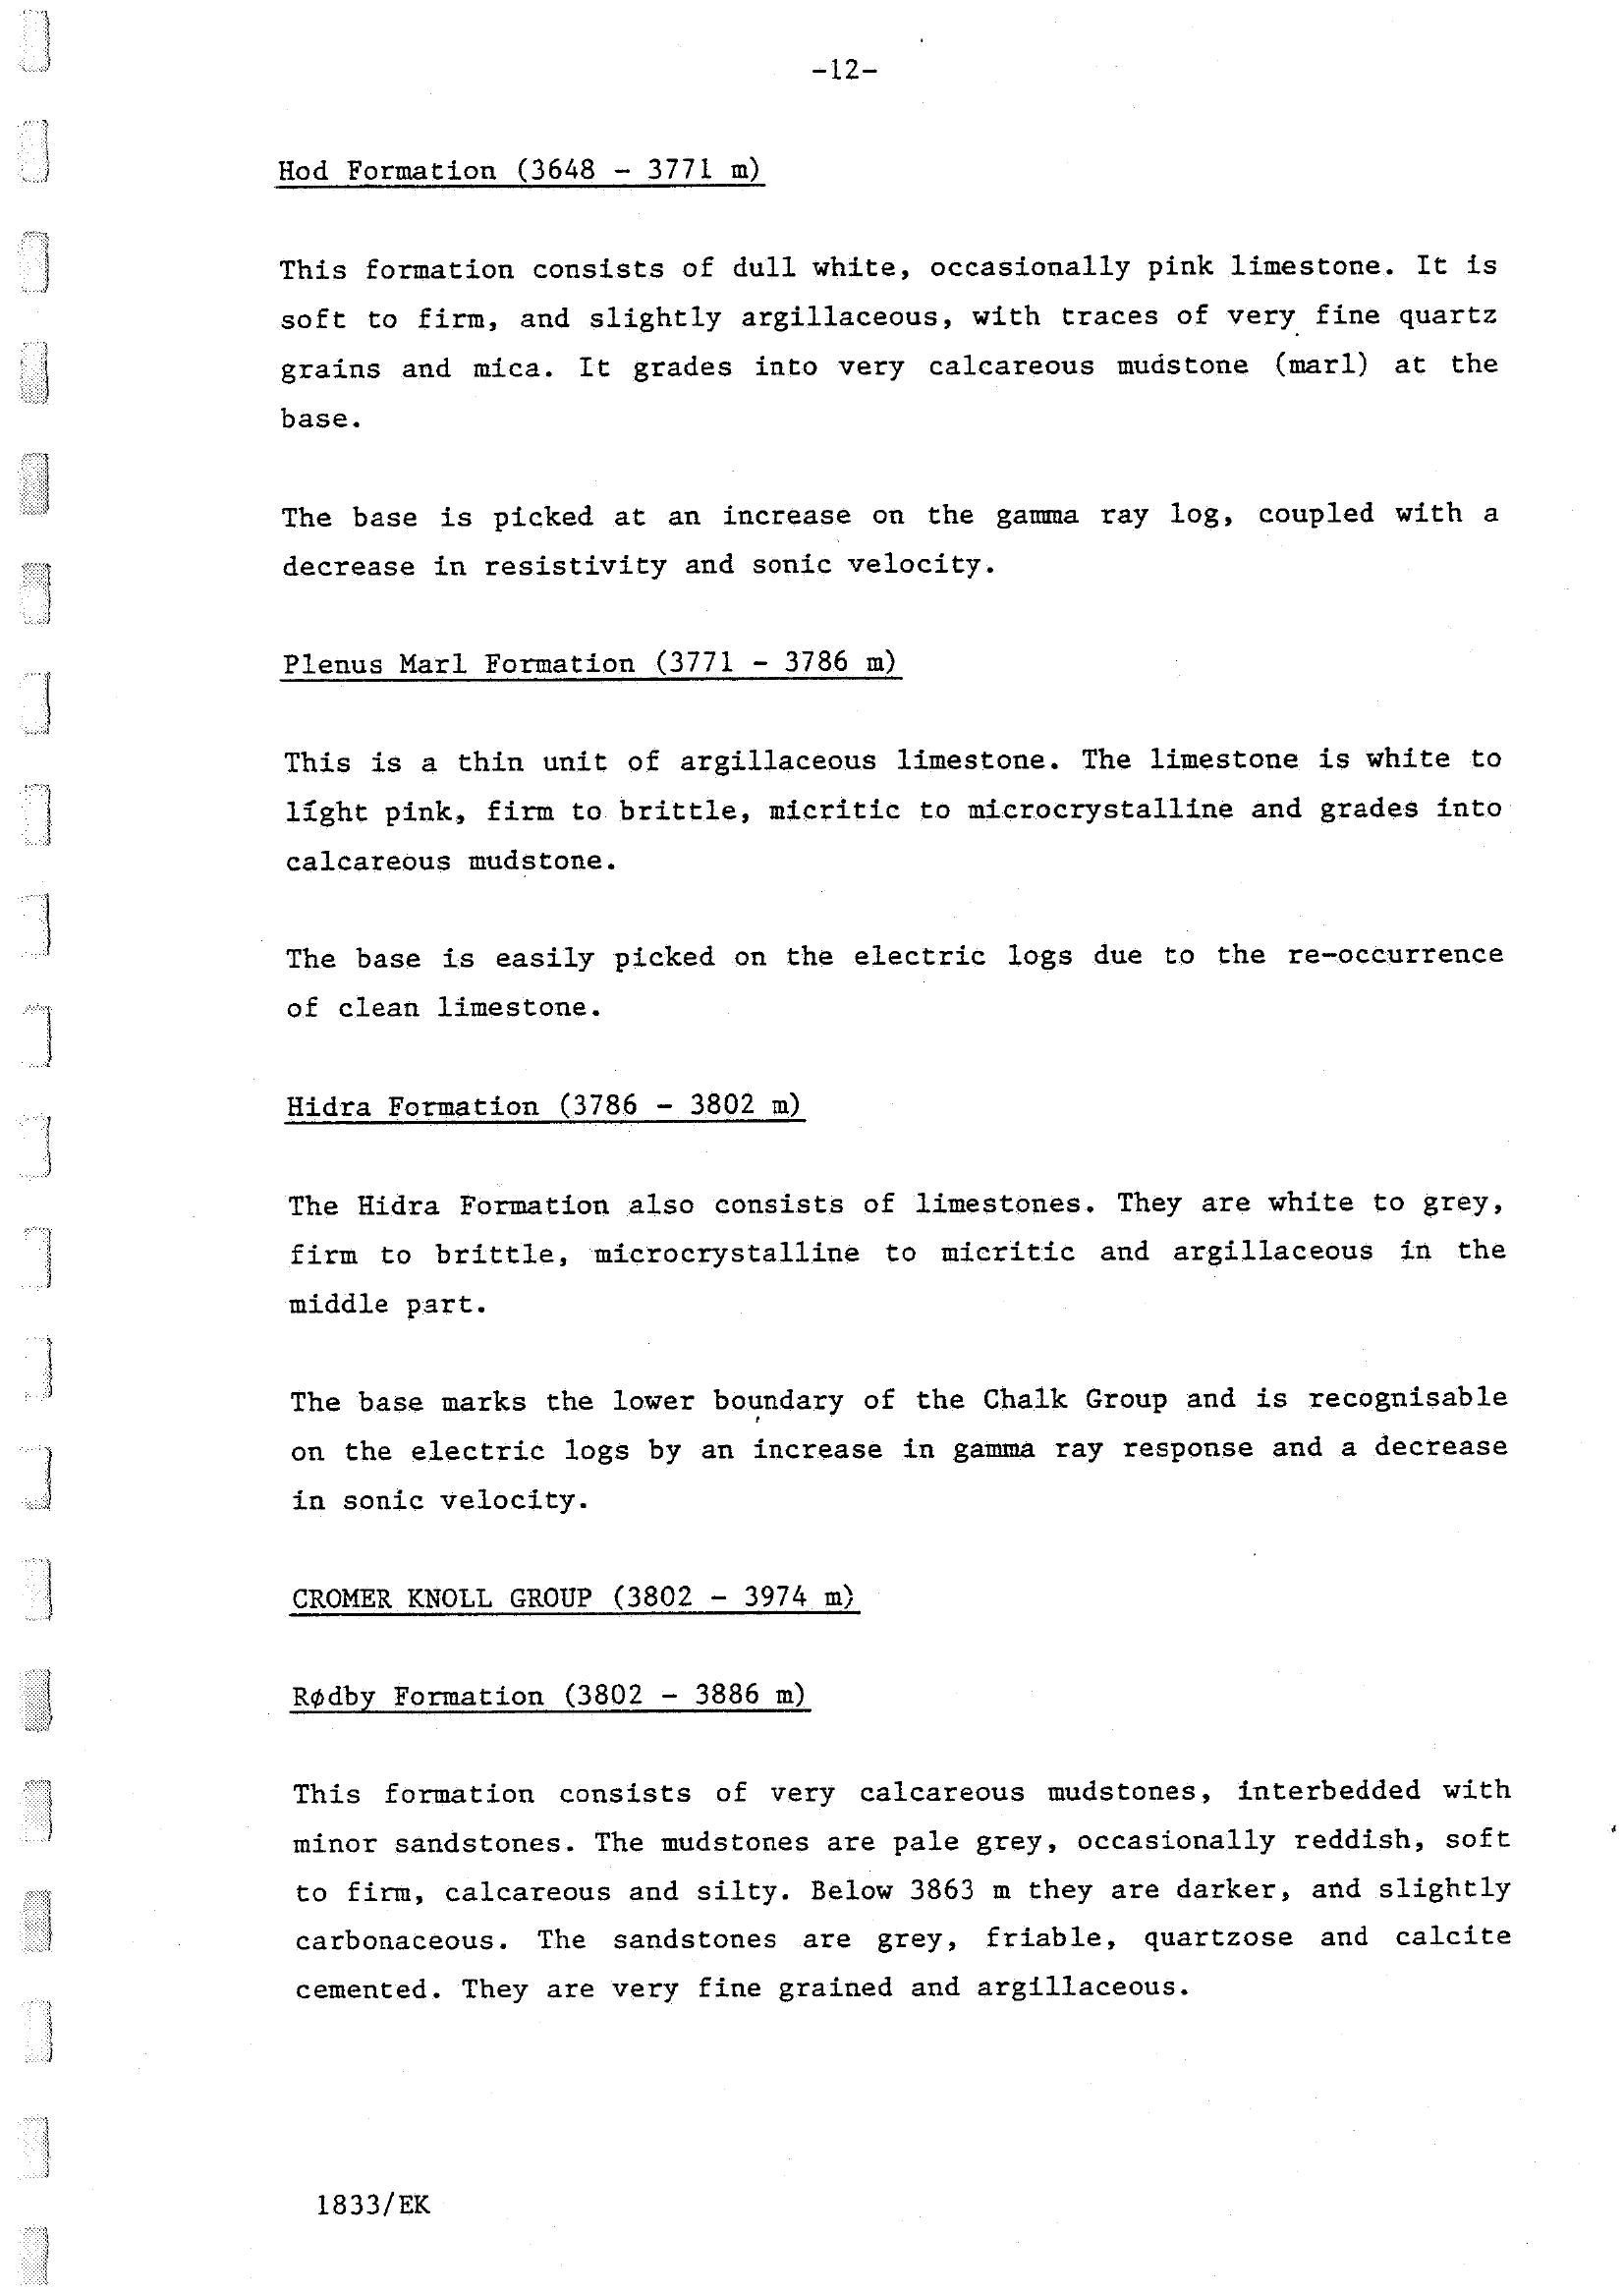text: (239, 139, 1562, 2082)
